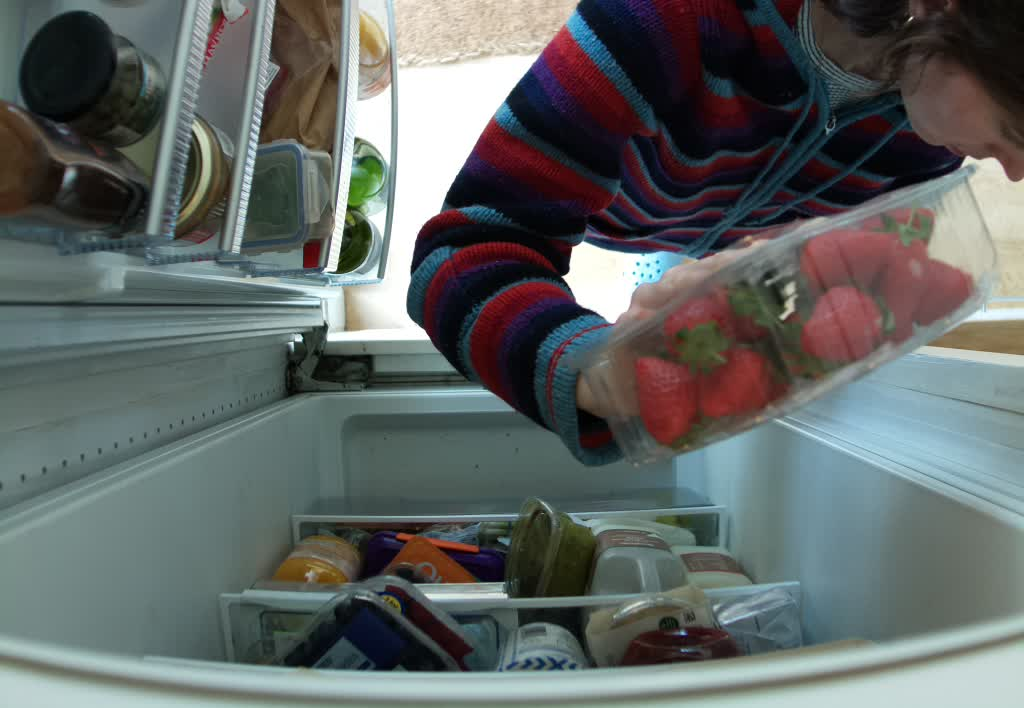soft-fruit: (584, 175, 1003, 471)
